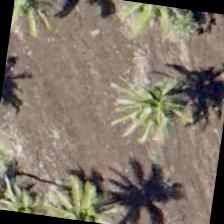Kelapa_Sawit: (109, 50, 211, 152), (45, 166, 143, 223), (0, 157, 72, 218)
